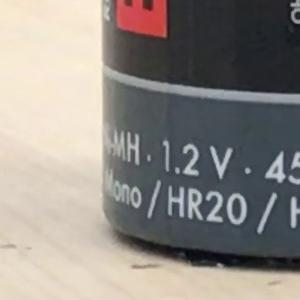HR20: (159, 184, 256, 227)
